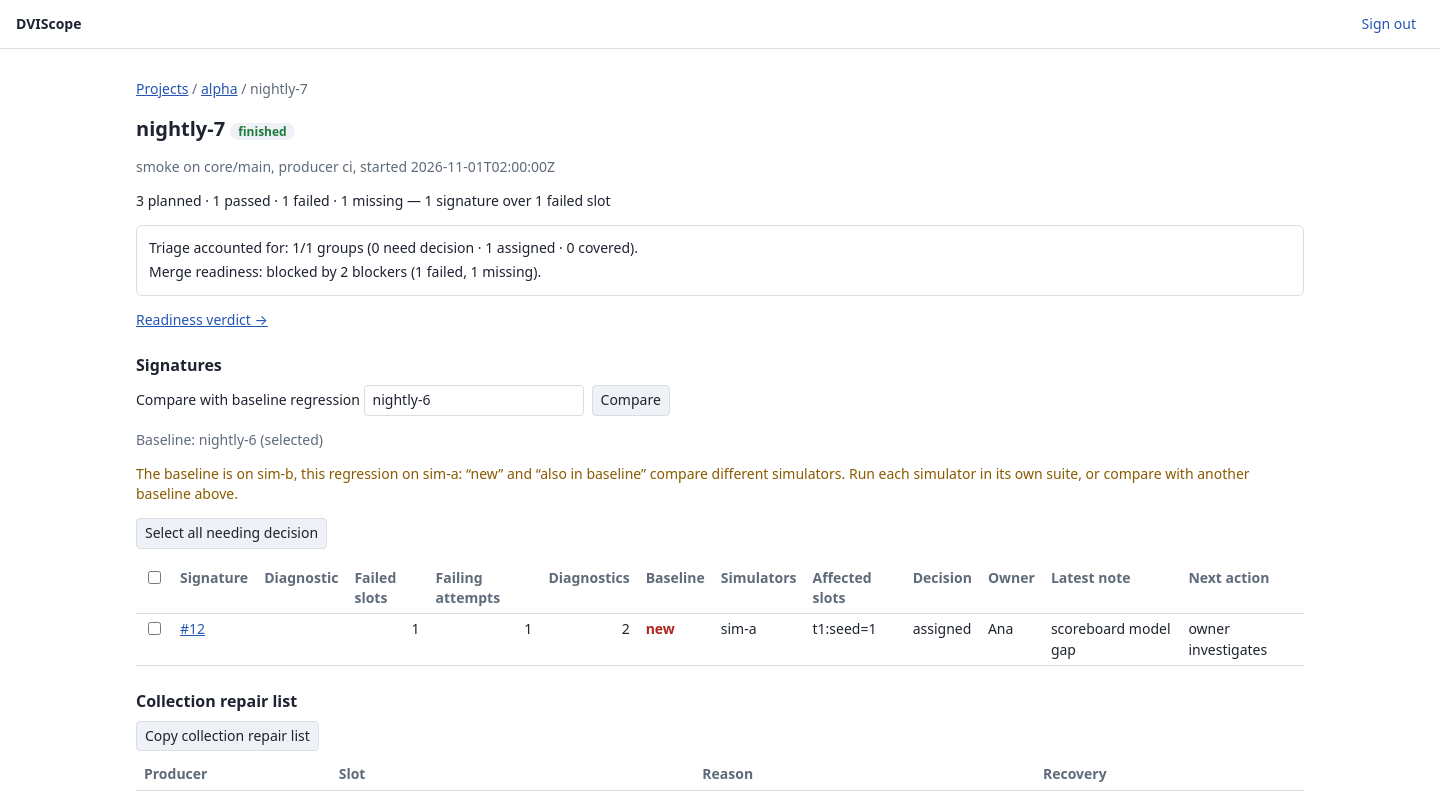
it: regression page › shows counts, a numbered signature link with its branch, and slot links
This screenshot has width=1440, height=796.
Check: the text "3 planned · 1 passed · 1 failed · 1 missing" is shown, box [136,191,403,210]
Check: the text with test id "baseline" reads "Baseline: nightly-6 (selected)", box [136,430,323,449]
Click the button "Copy collection repair list".
click(227, 736)  # box [136,721,319,751]
(page scrolled)
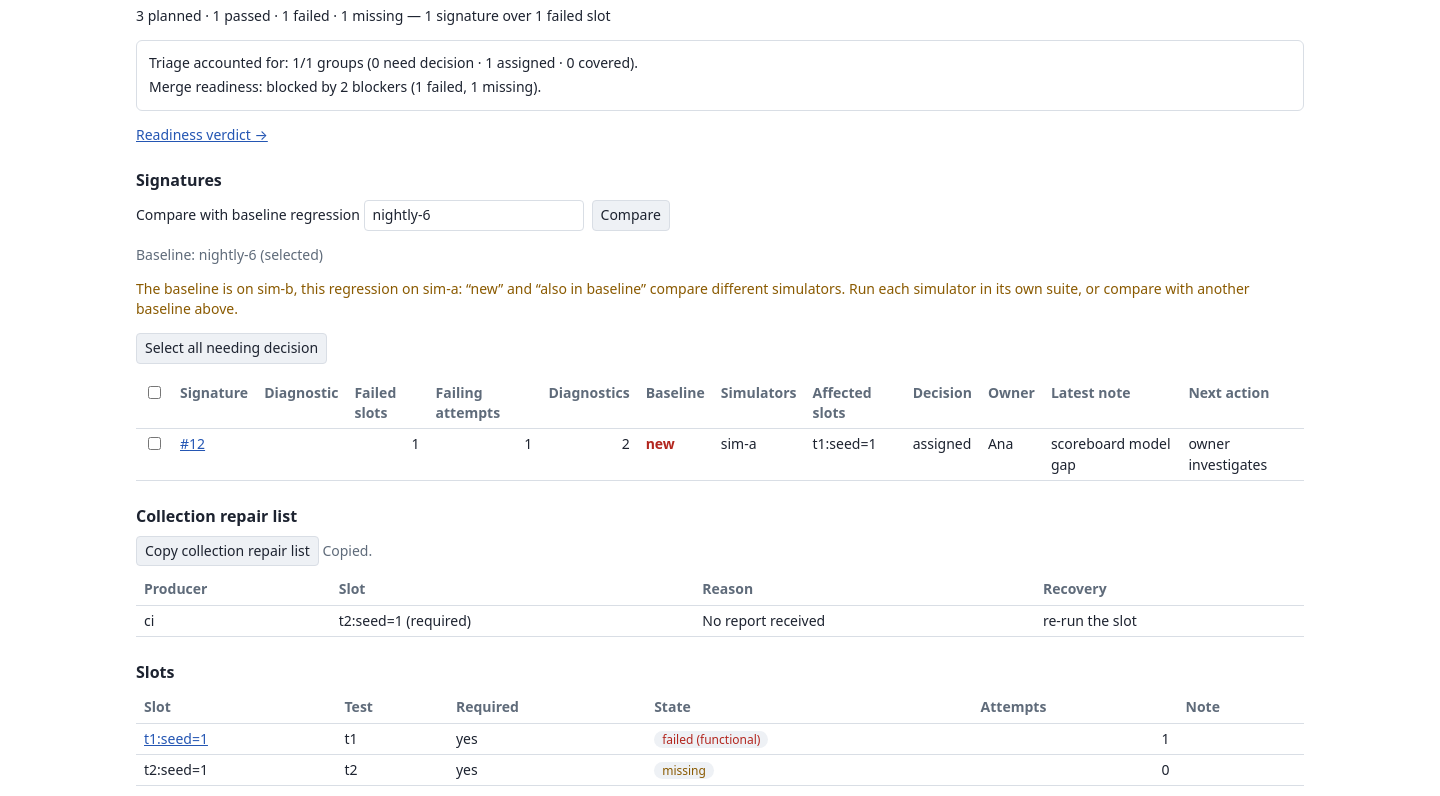
Check: the text "new" is shown, box [646,434,675,453]
Check: the text "Copied." is shown, box [319,541,372,560]
